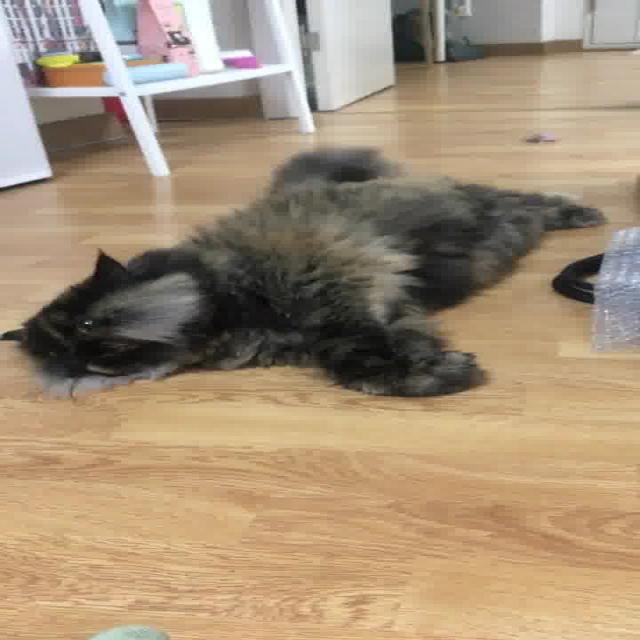cat: (0, 134, 609, 400)
